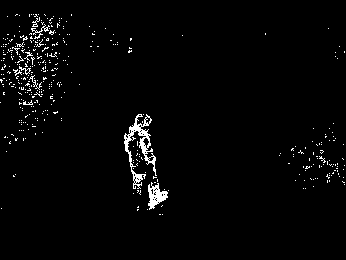person: (123, 112, 169, 212)
